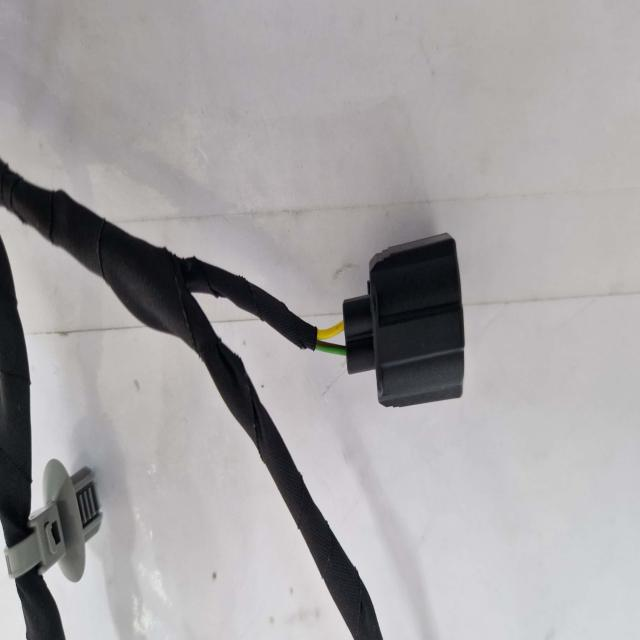Clip: (9, 454, 102, 575)
Connector: (344, 236, 459, 403)
Gape: (308, 312, 350, 371)
MHEV_N11_Cable: (4, 164, 374, 612), (0, 247, 38, 545), (28, 585, 69, 638)
